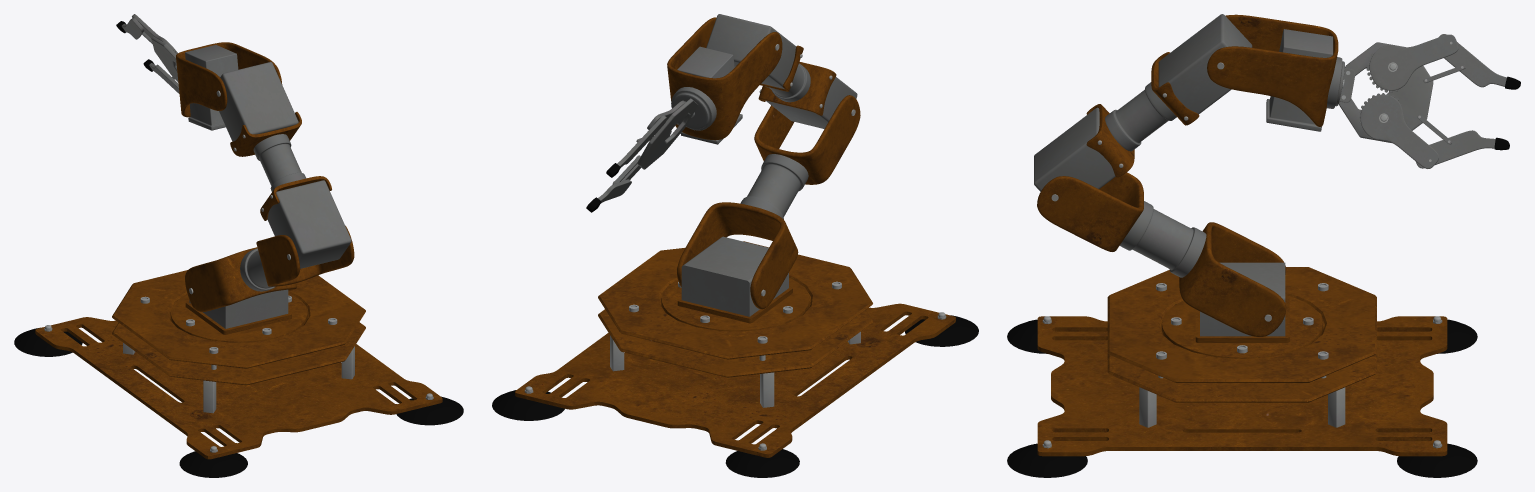
File: robot-arm.glb
3 views of the same model, side by side, from view 1: azimuth 30°, elevation 25°; view 2: azimuth 150°, elevation 25°; view 3: azimuth 270°, elevation 25° (orthographic). The views are drawn at different scales.
Parts seen in each view (by area): view 1: Object_4, Object_26, Object_20, Object_8; view 2: Object_4, Object_26, Object_20, Object_8; view 3: Object_4, Object_26, Object_20, Object_8.
Boxes of the visible parts, <box> form: Object_4: <box>35,42,442,459</box>; Object_26: <box>121,14,351,328</box>; Object_20: <box>14,21,463,477</box>; Object_8: <box>44,90,433,452</box>; Object_4: <box>515,17,955,457</box>; Object_26: <box>598,14,857,316</box>; Object_20: <box>492,163,978,477</box>; Object_8: <box>524,44,946,450</box>; Object_4: <box>1037,14,1447,456</box>; Object_26: <box>1034,14,1506,336</box>; Object_20: <box>1007,76,1520,477</box>; Object_8: <box>1042,41,1463,448</box>.
Bounding box in the file's own units: 0.9407 × 1.03 × 1.29.
4 materials, 3 textured.
